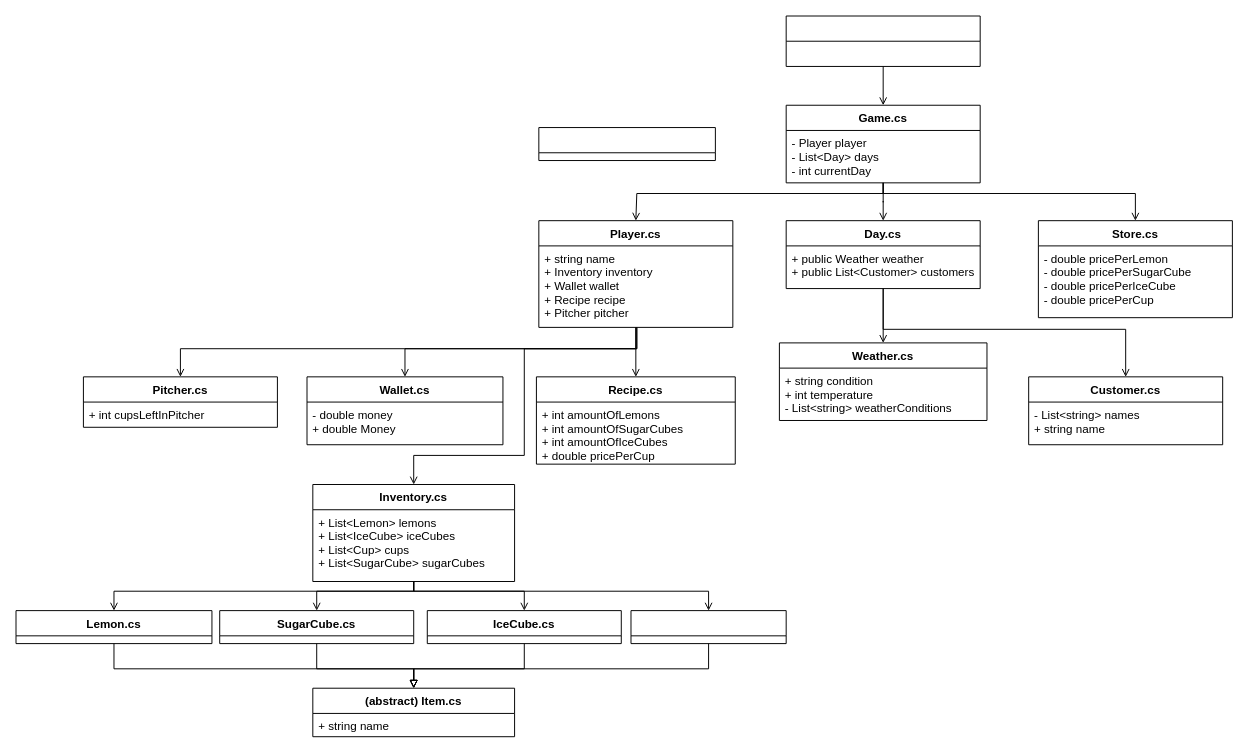
Image size: 1248x753. Some labels were removed from this diagram. Each missing label, with the centre of its shape:
(static) UserInterface: [626,144]
Cup.cs: [708,627]
Program.cs: [882,40]
